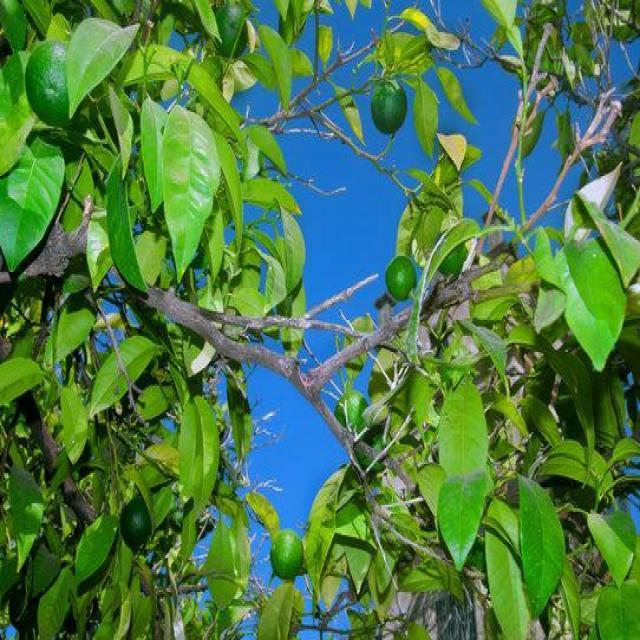Jeruk Belum Matang: (26, 39, 72, 128), (372, 82, 407, 134), (122, 499, 154, 552), (272, 530, 304, 582), (216, 7, 248, 59), (386, 256, 417, 304), (336, 389, 368, 434), (436, 230, 466, 276)
